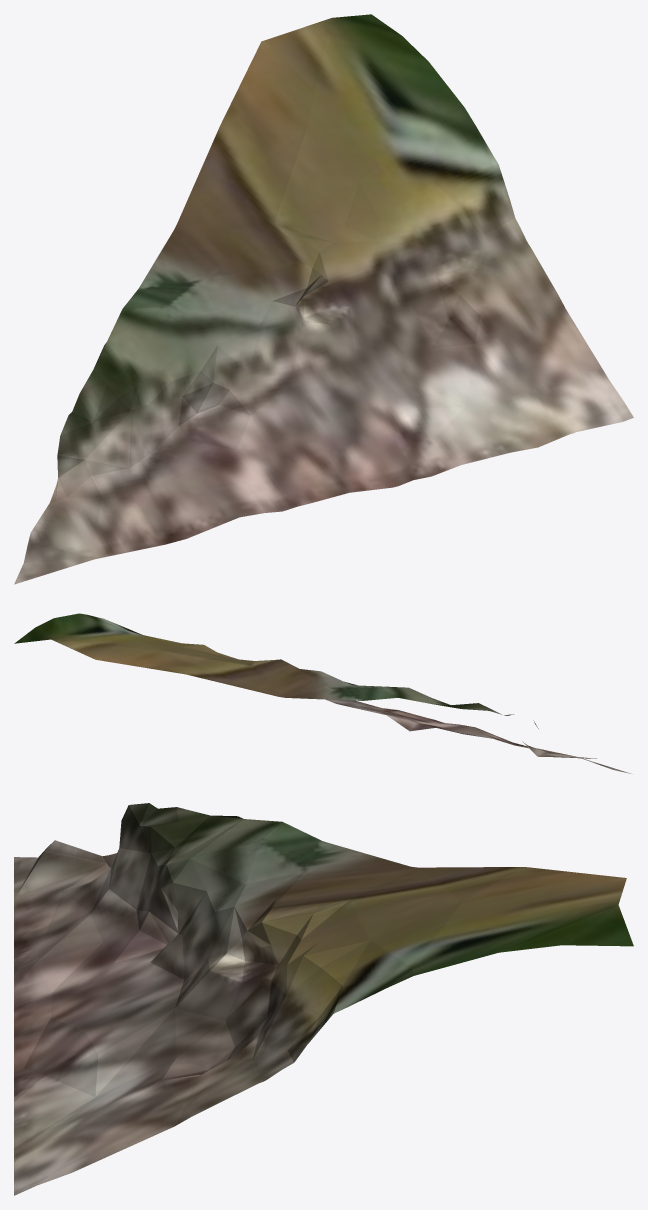
3 views of the same model, one above another, from view 1: azimuth 30°, elevation 25°; view 2: azimuth 150°, elevation 25°; view 3: azimuth 270°, elevation 25° (orthographic). The views are drawn at different scales.
Bounding box in the file's own units: 2.01 × 0.7435 × 1.48.
1 material, 1 textured.
